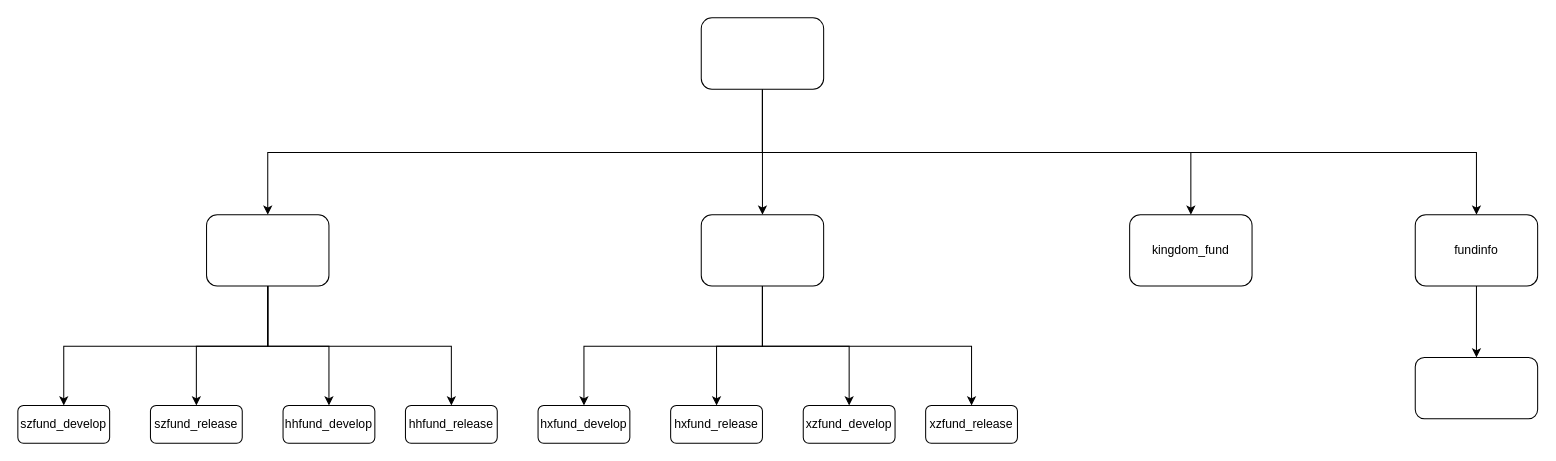
This 1556x461 diagram has some shape labels left out. The shapes that lost their labels are listed below. From the top down, each one's box as (x1, y1, x2, y2) in pixels, then its label:
(700, 17, 824, 89): groupFund
(206, 214, 329, 286): ets_fund
(700, 214, 824, 286): cloud_fund
(1414, 356, 1538, 419): develop
